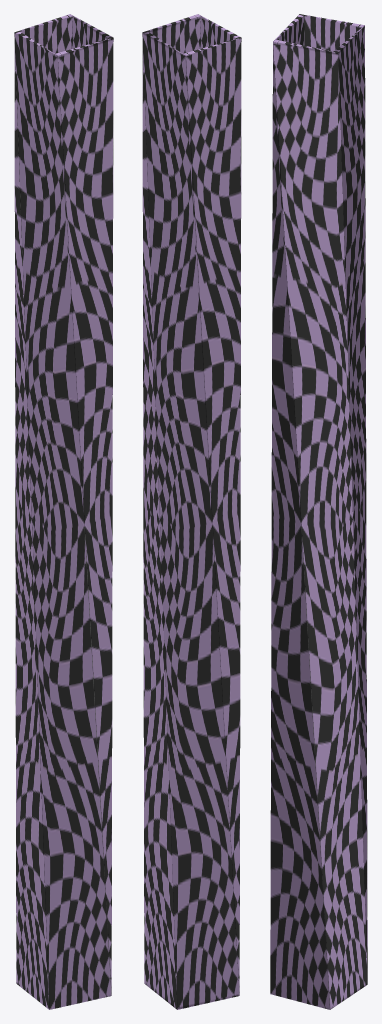
File: Tunnel4.fbx
3 views of the same model, side by side, from view 1: azimuth 30°, elevation 25°; view 2: azimuth 210°, elevation 25°; view 3: azimuth 330°, elevation 25° (orthographic).
Visible parts, largest first — view 1: Cube.001; view 2: Cube.001; view 3: Cube.001.
Boxes of the visible parts, bbox=[...] form: Cube.001: bbox=[14, 14, 113, 1009]; Cube.001: bbox=[142, 14, 241, 1009]; Cube.001: bbox=[270, 14, 367, 1009].
Bounding box in the file's own units: 424 × 5609 × 424.
1 material, 1 textured.
